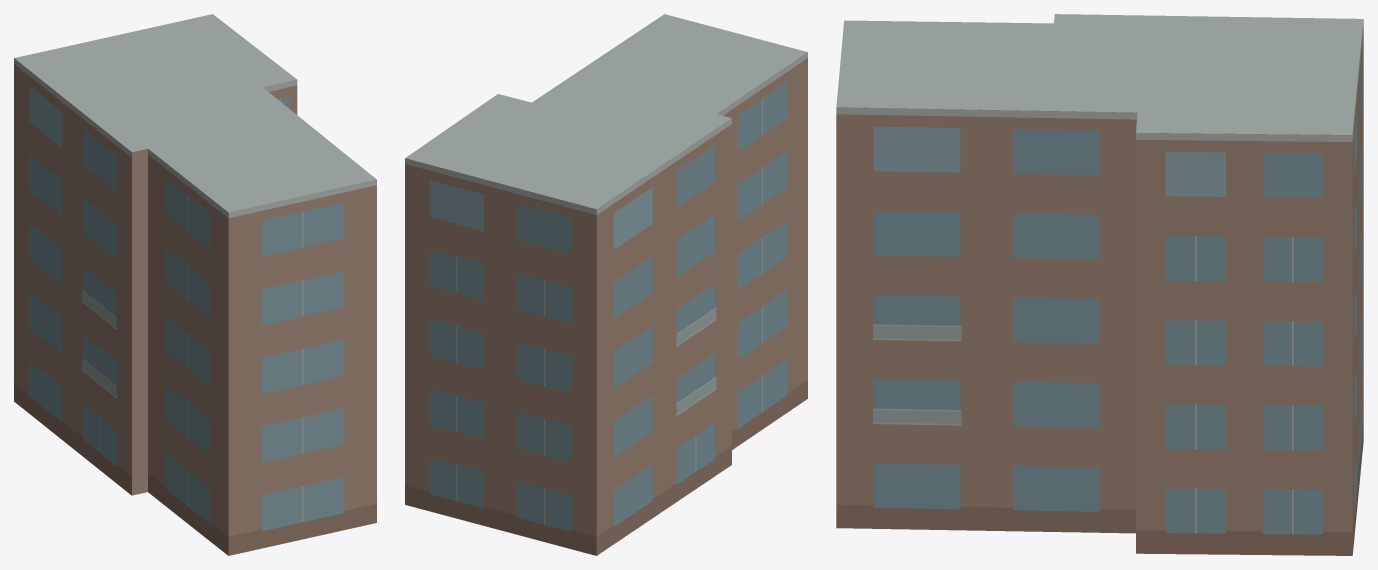
File: survey-upis-32901414.glb
The picture shows the model from 3 angles, left to right: view 1: azimuth 30°, elevation 25°; view 2: azimuth 150°, elevation 25°; view 3: azimuth 270°, elevation 25°; orthographic projection. The views are drawn at different scales.
Parts seen in each view (by area): view 1: survey-upis-32901414.tmp; view 2: survey-upis-32901414.tmp; view 3: survey-upis-32901414.tmp.
Part boxes in pixels (left/top/right/bottom): survey-upis-32901414.tmp: left=14, top=14, right=376, bottom=555; survey-upis-32901414.tmp: left=405, top=14, right=807, bottom=555; survey-upis-32901414.tmp: left=836, top=14, right=1363, bottom=555.
Bounding box in the file's own units: 8.95 × 14.5 × 16.47.
